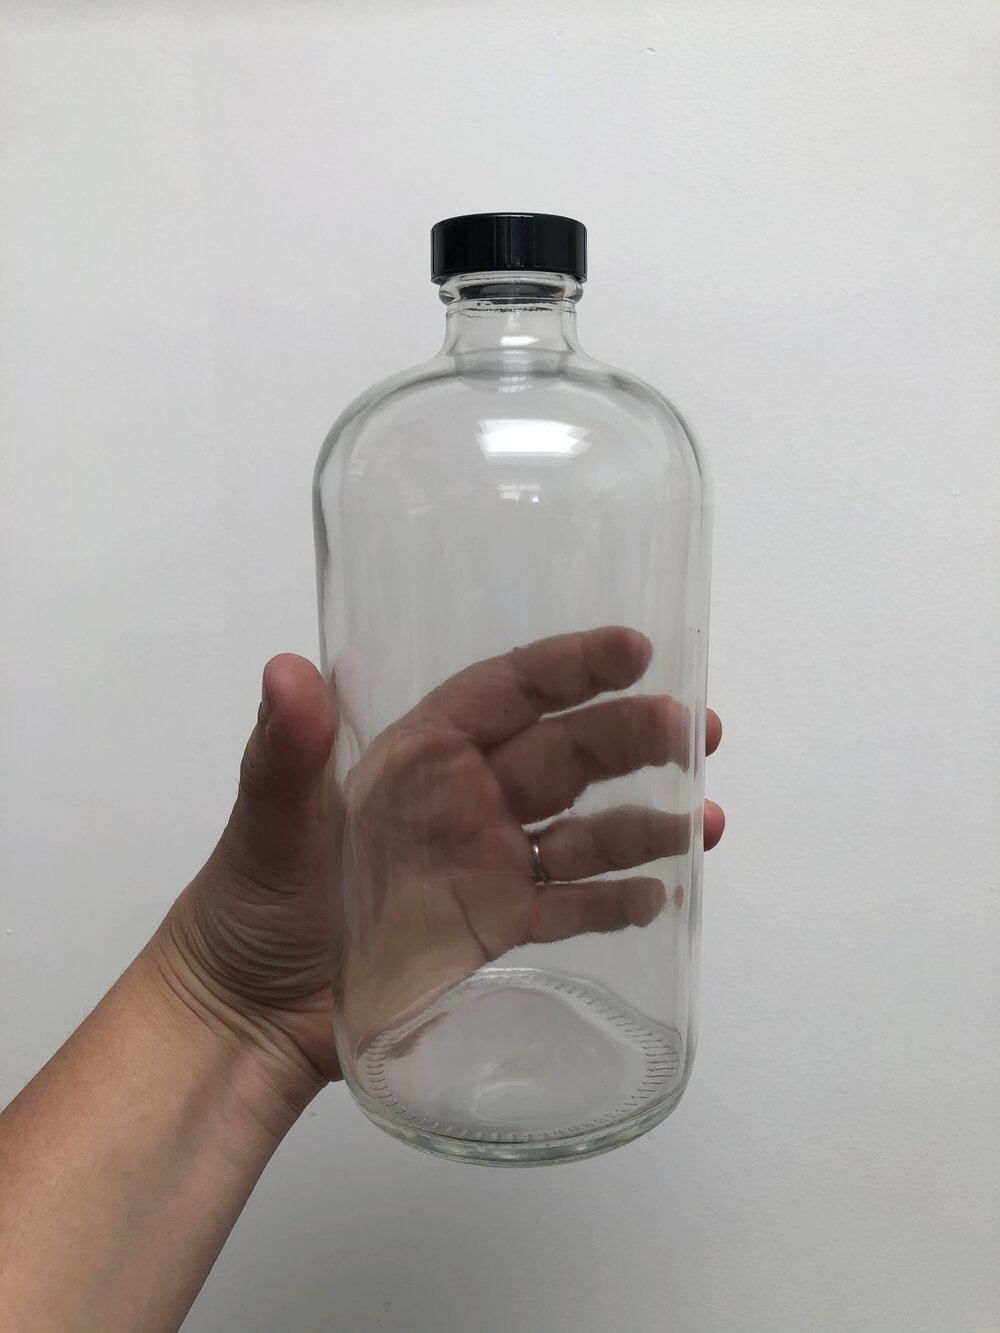glass_bottle: (308, 204, 714, 1179)
